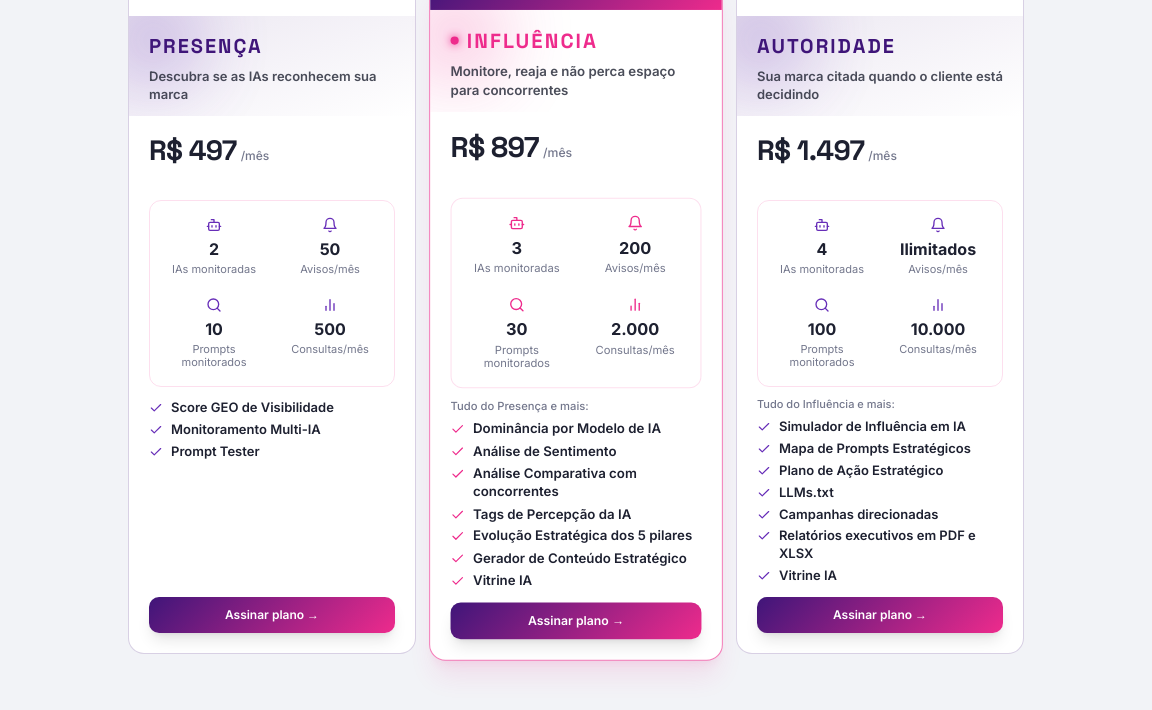
Scenario: EscolherPlanoPage — elegibilidade ao trial › Cliente 30 (trial expirado) vê cobrança imediata, sem 7 dias grátis
(page scrolled)
Note: Modal de confirmação: cobrança agora, com plano e valor
Click the button "Assinar plano →" below "Relatórios executivos em PDF e XLSX": (880, 615) [757, 597, 1003, 633]
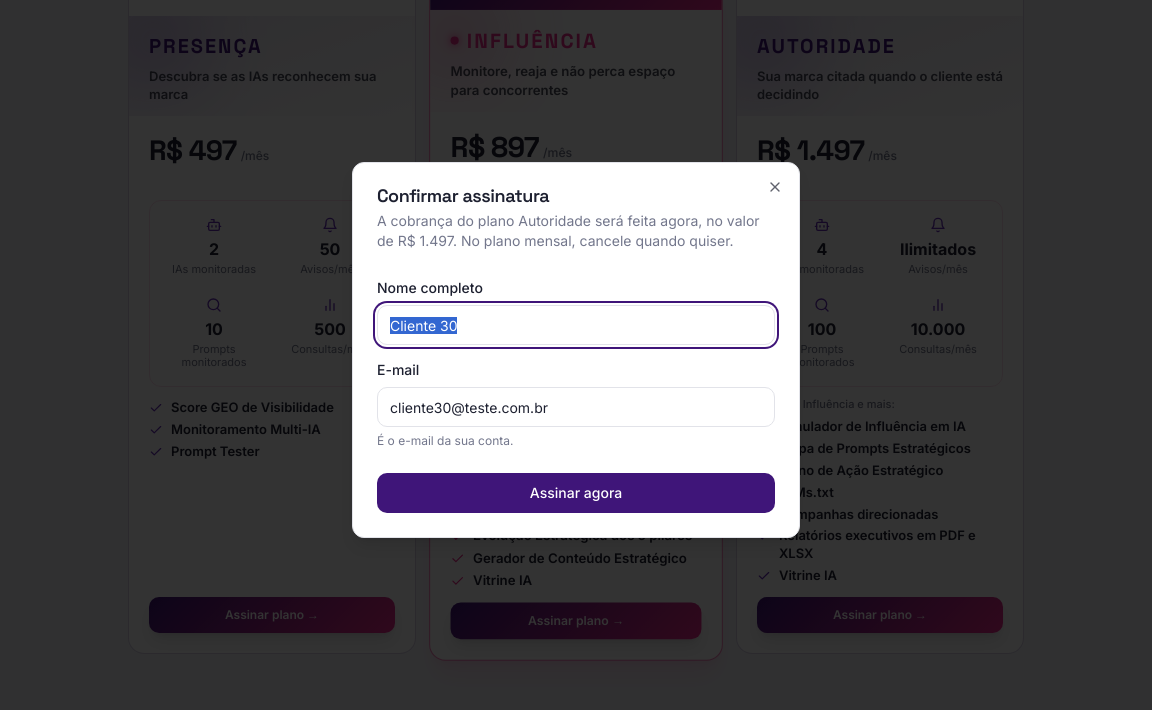
Result: the button "Assinar agora" is shown at [377, 473, 775, 513]
